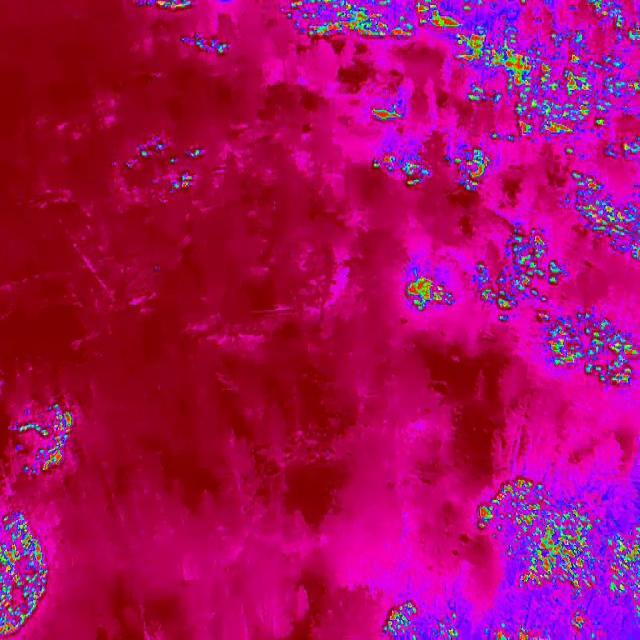fire: (475, 461, 640, 640), (276, 0, 640, 45), (457, 44, 640, 117), (474, 230, 570, 319), (545, 306, 640, 386), (571, 170, 640, 270), (490, 116, 640, 160), (0, 505, 47, 640), (7, 397, 74, 472), (128, 140, 212, 194), (380, 596, 472, 640), (401, 265, 458, 314), (446, 140, 498, 192), (372, 149, 428, 189), (182, 30, 231, 64), (368, 98, 413, 126), (138, 0, 194, 11)
